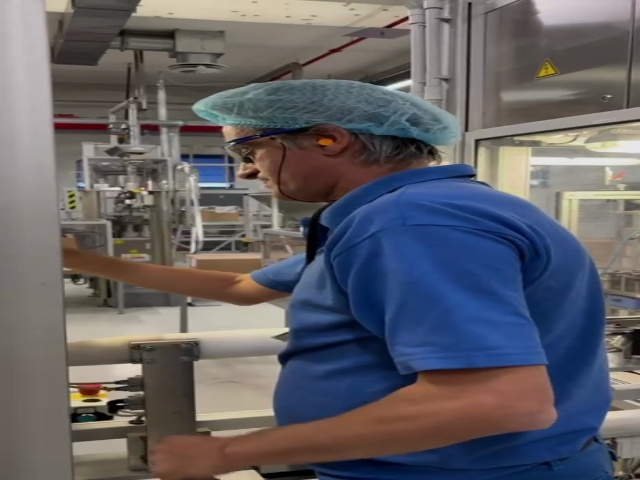Earplug: (308, 125, 353, 158)
Hairnet: (208, 80, 458, 138)
No_Helmet: (195, 78, 451, 126)
No_Vest: (306, 192, 607, 480)
Person: (198, 79, 607, 480)
Safety_Goggles: (220, 126, 318, 160)
